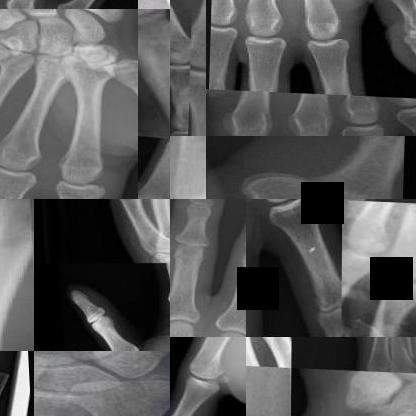fracture: (240, 151, 406, 198), (54, 170, 112, 198), (0, 174, 41, 198), (384, 337, 415, 359), (108, 199, 155, 213), (400, 199, 415, 242)
